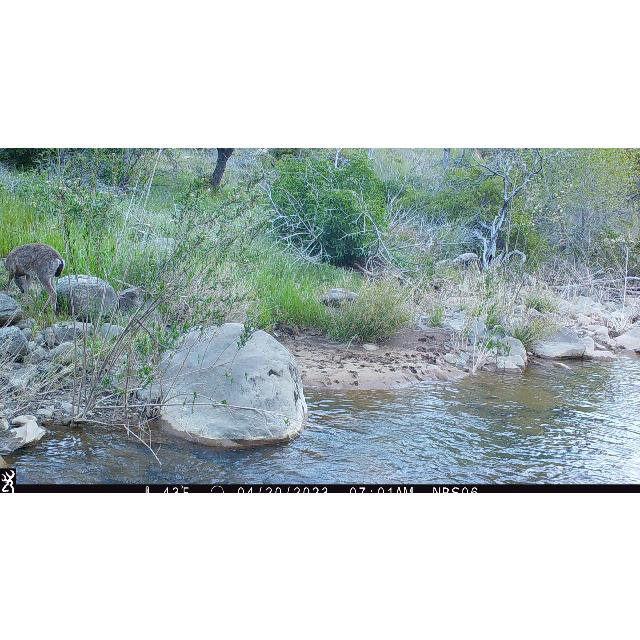animals: (4, 239, 62, 315)
